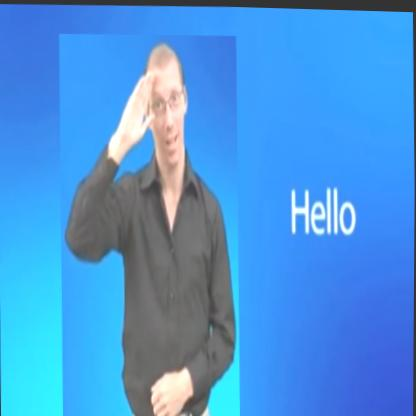Hello: (57, 29, 243, 416)
